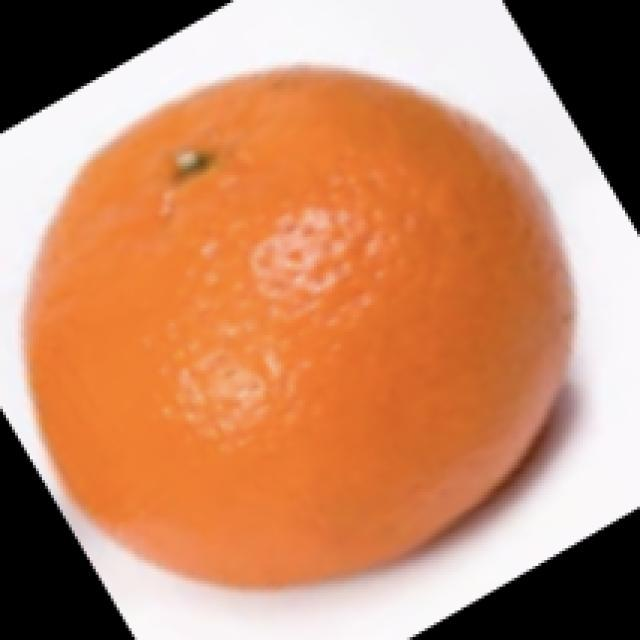matang: (27, 69, 570, 585)
